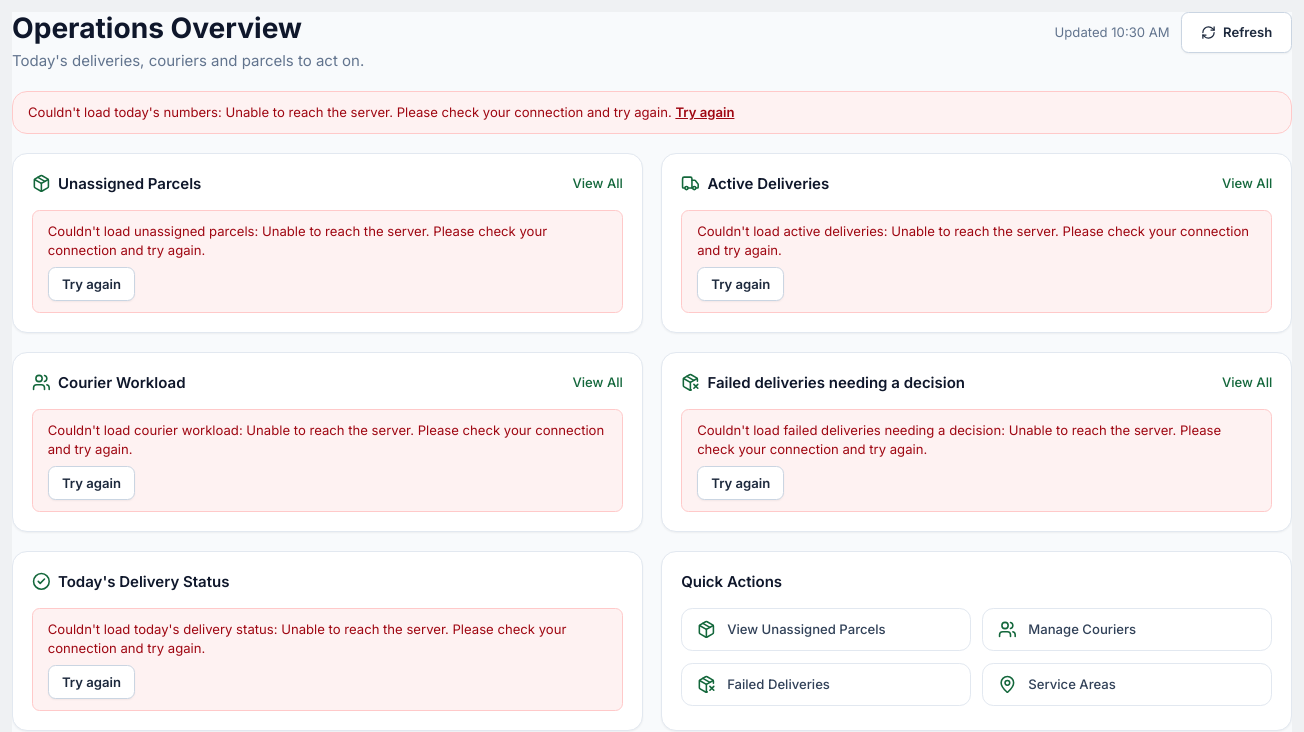
Test: OperationsOverviewPage (mock API) › refreshes on the button and shows when it last updated
Expected: the text "Updated 10:30 AM" is shown, [1055,23,1170,42]
Click the button "Refresh" at (1236,33), box [1181,12,1292,53]
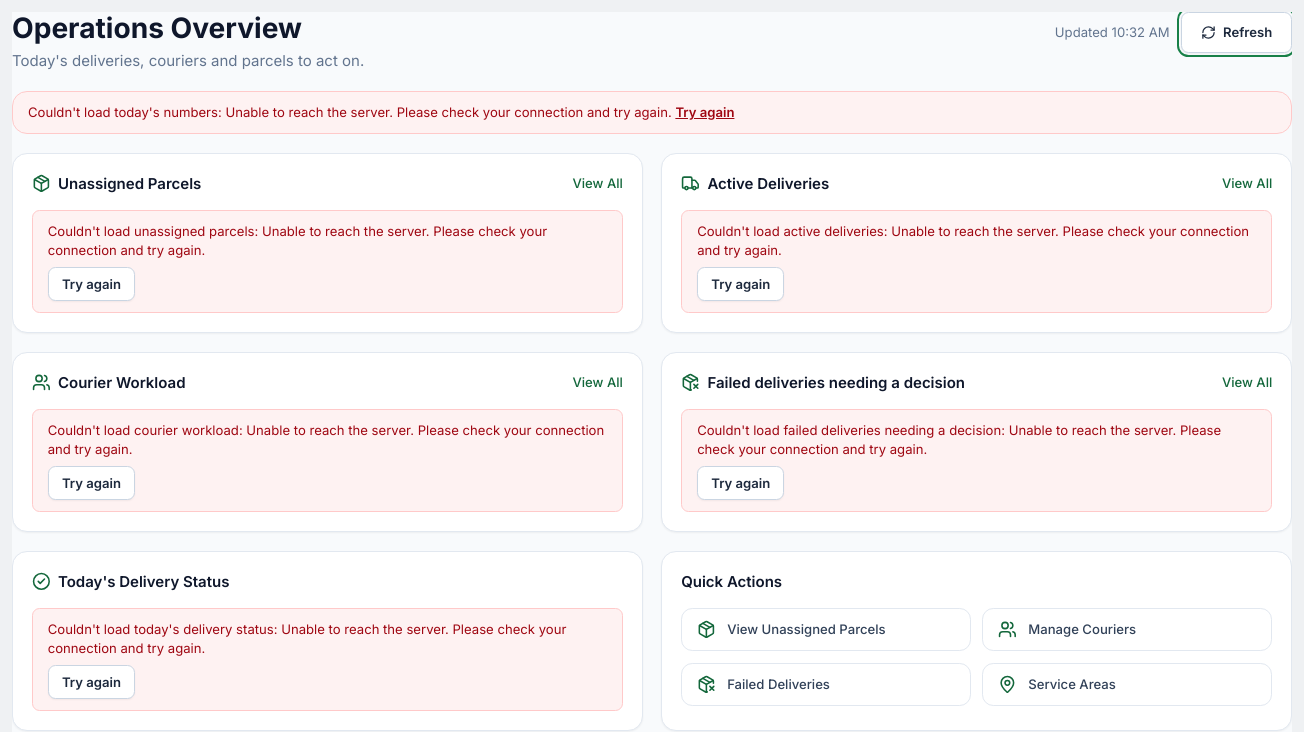
Expected: the text "Updated 10:32 AM" is shown, [1055,23,1170,42]
